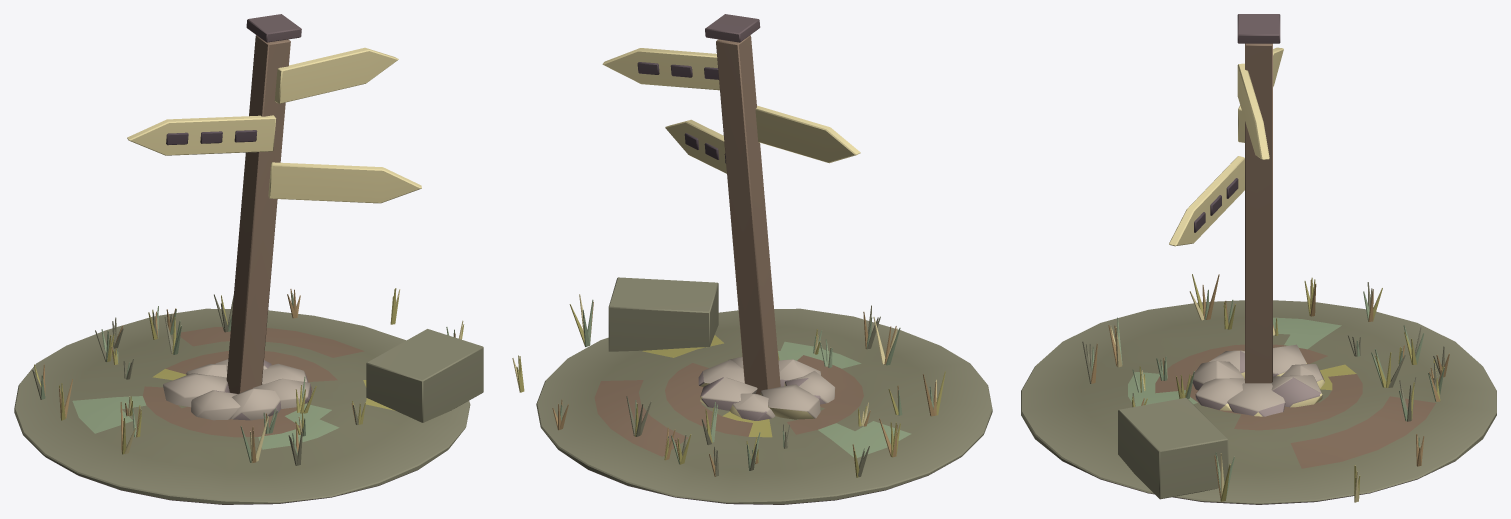
The model's file is field_props_v3.glb.
3 views of the same model, side by side, from view 1: azimuth 30°, elevation 25°; view 2: azimuth 150°, elevation 25°; view 3: azimuth 270°, elevation 25° (orthographic). The views are drawn at different scales.
Visible parts, largest first — view 1: Body; view 2: Body; view 3: Body.
Boxes of the visible parts, x1,y1,x2,y2 form: Body: (14,14,483,504); Body: (512,14,992,504); Body: (1021,14,1496,504).
Size of the model in its own units: 0.4583 by 0.4161 by 0.4431.
